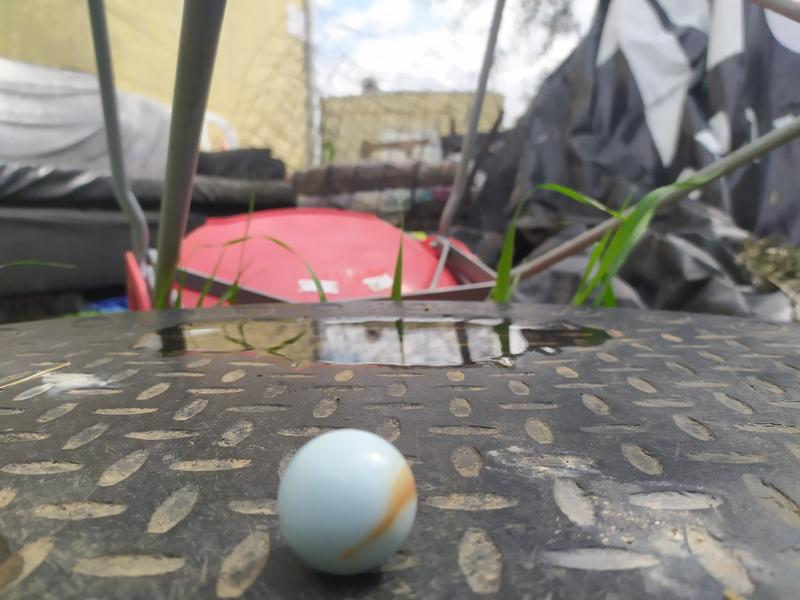Warning: (273, 424, 422, 579)
